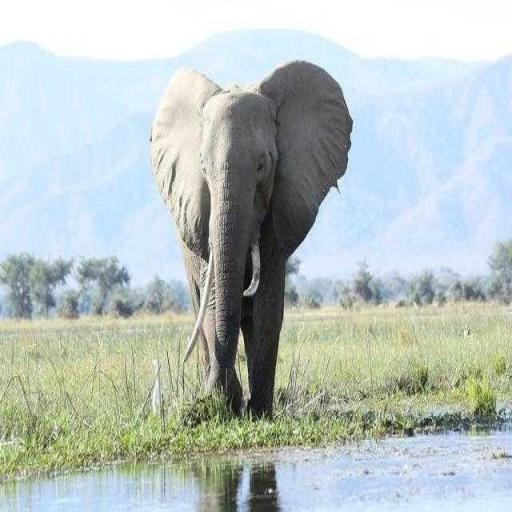Elephant: (149, 58, 353, 420)
